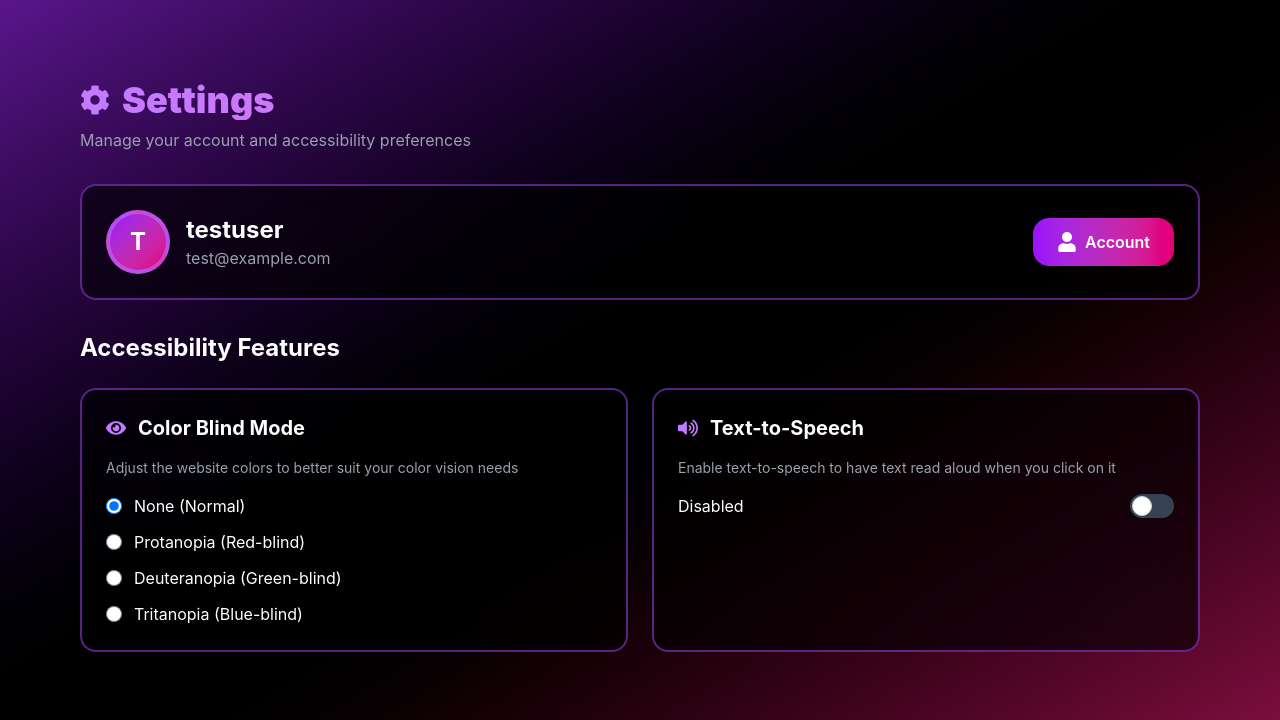
Test case: Settings Component › Text-to-Speech › toggles text-to-speech when checkbox is clicked
Click the checkbox: (1152, 506) 1130,494 -> 1174,518
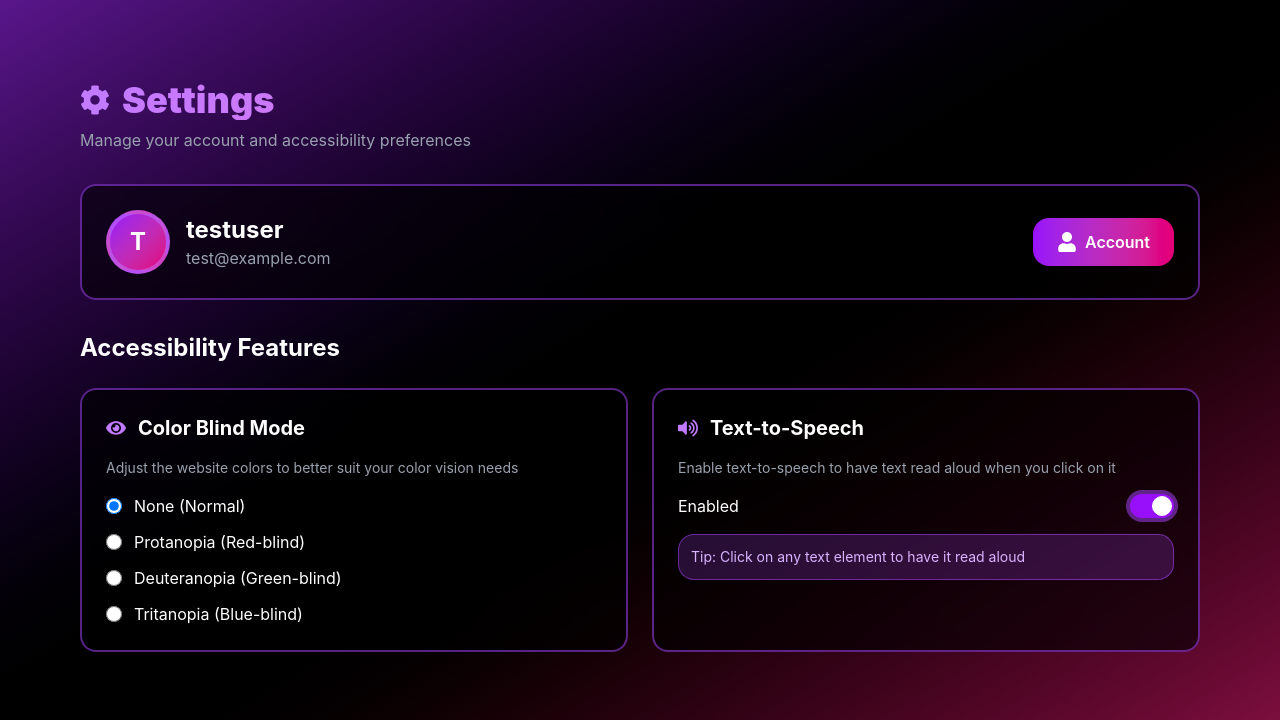
Now the checkbox is checked, box 1130,494 -> 1174,518
Now the text "Enabled" is shown, box 678,494 -> 739,518
